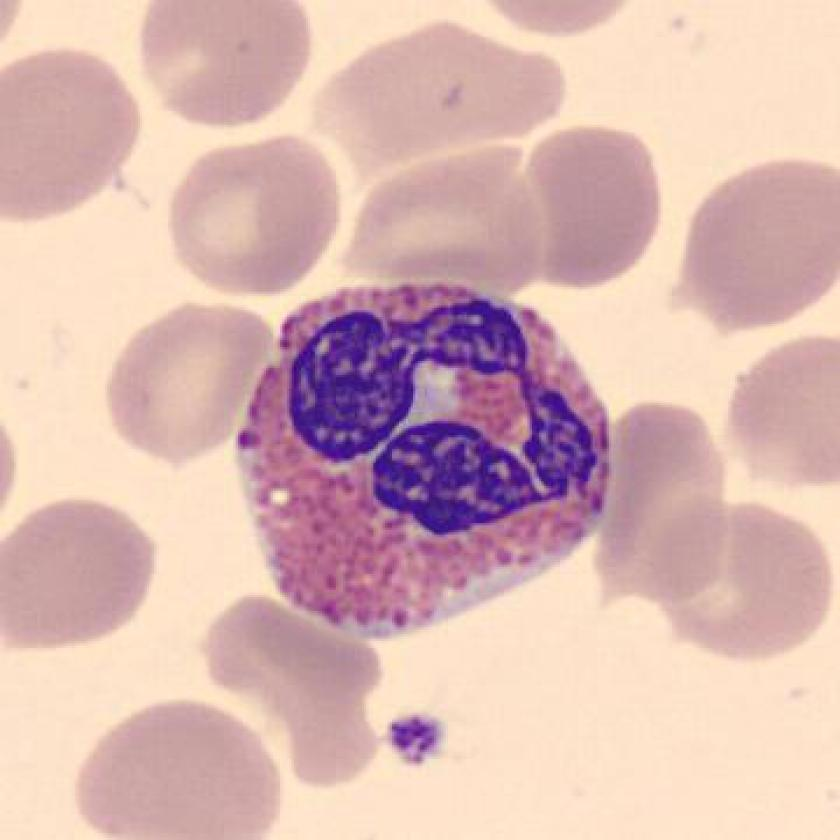eosinophil: (218, 267, 626, 654)
